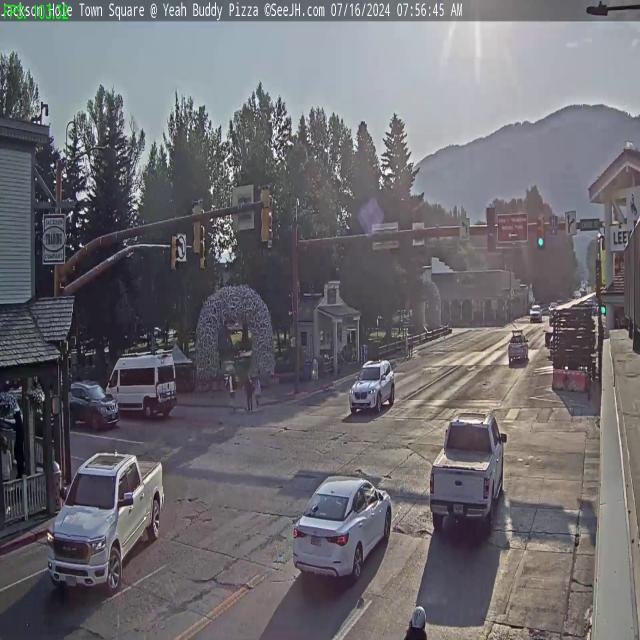person: (1, 431, 15, 516), (248, 368, 256, 413), (229, 366, 236, 406), (255, 374, 262, 409)
pickup: (45, 448, 165, 602), (426, 404, 506, 543)
sedan: (290, 471, 394, 582)
suv: (67, 381, 119, 432), (348, 358, 395, 414), (508, 332, 527, 362), (530, 303, 542, 322)
traffic light: (260, 184, 273, 245), (191, 200, 203, 255), (486, 208, 497, 254), (537, 214, 546, 248), (171, 234, 179, 271)
